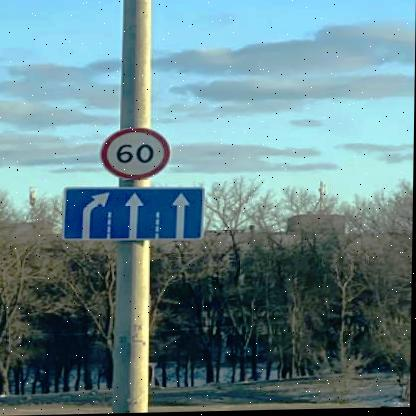Speed Limit -60-: (102, 127, 171, 183)
